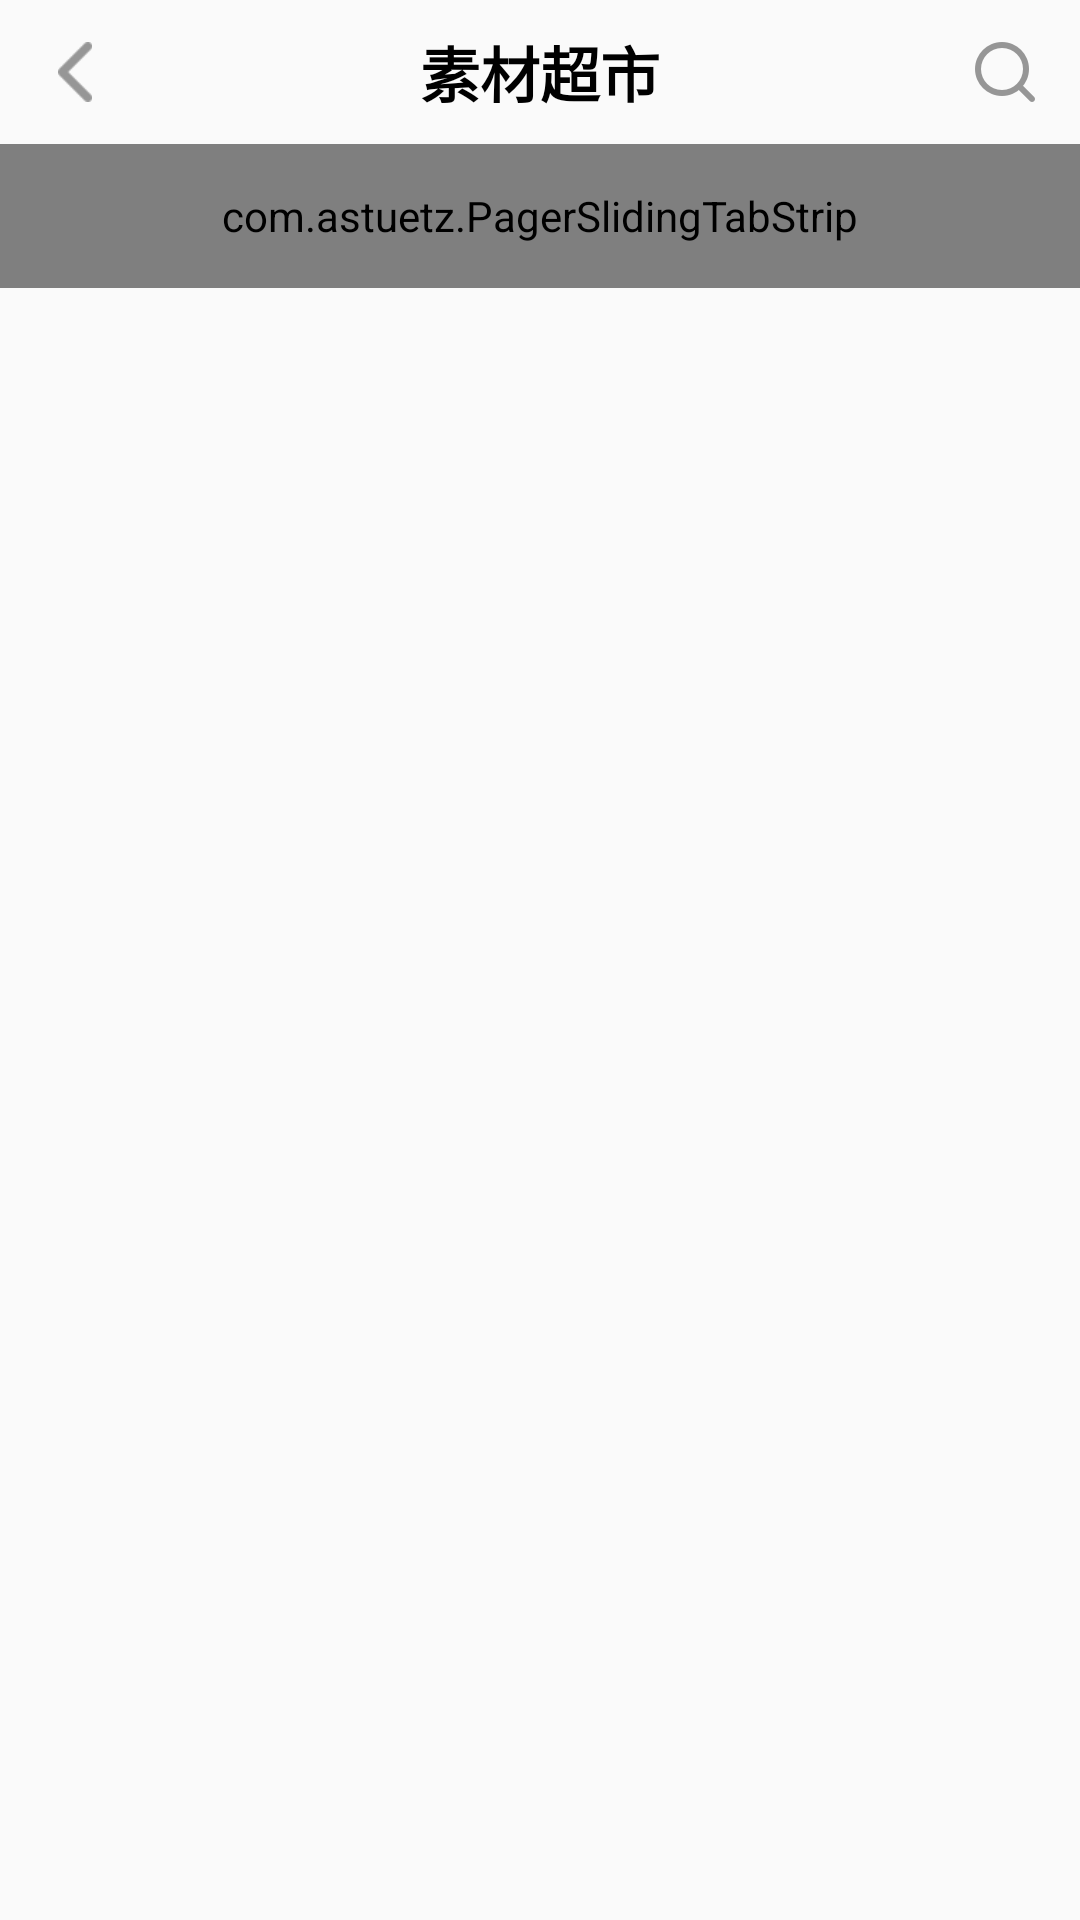

Icon bounding boxes for this 1080w x 1920h phone screenshot, format (x1, y1, x2, y2):
leftback: (58, 42, 92, 102)
search: (975, 42, 1035, 102)
